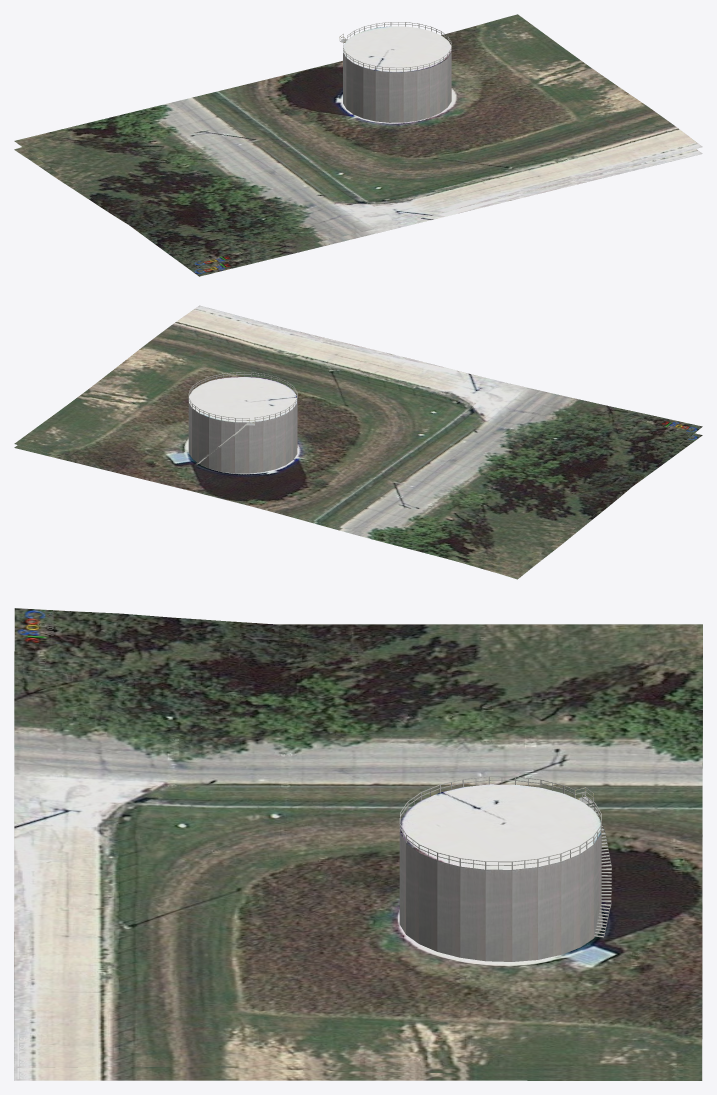
The model's file is bonchua(test).glb.
3 renders of one model, top to bottom at view 1: azimuth 30°, elevation 25°; view 2: azimuth 150°, elevation 25°; view 3: azimuth 270°, elevation 25°, orthographic. The views are drawn at different scales.
Parts seen in each view (by area): view 1: G-Google Earth Terrain, G-Google Earth Snapshot, C-storage tank; view 2: G-Google Earth Terrain, G-Google Earth Snapshot, C-storage tank; view 3: G-Google Earth Terrain, G-Google Earth Snapshot, C-storage tank, G-Object.
Boxes of the visible parts, x1,y1,x2,y2 form: G-Google Earth Terrain: (14,14,702,267); G-Google Earth Snapshot: (14,62,702,276); C-storage tank: (343,26,451,122); G-Google Earth Terrain: (14,305,702,579); G-Google Earth Snapshot: (14,425,702,570); C-storage tank: (188,376,297,473); G-Google Earth Terrain: (14,608,702,1073); G-Google Earth Snapshot: (14,624,702,1080); C-storage tank: (399,784,601,961); G-Object: (575,787,611,937).
Bounding box in the file's own units: 98.61 × 12.03 × 62.89.
Materials: 5 (4 with a texture image).
